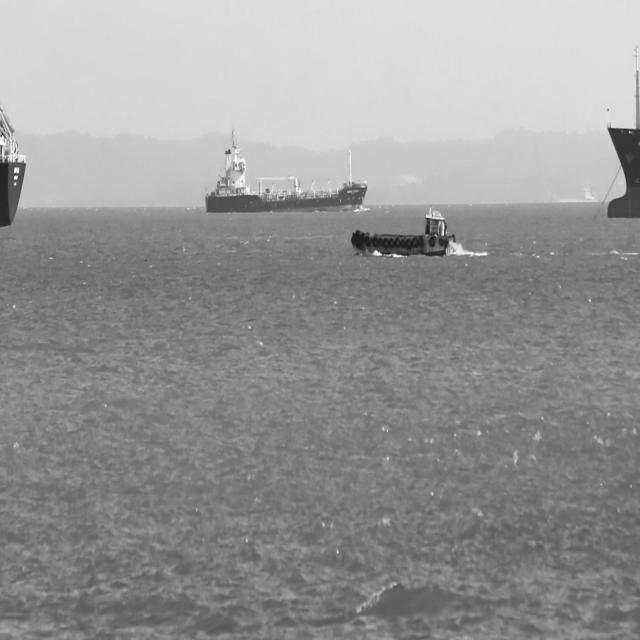ship: (204, 124, 368, 215), (606, 44, 639, 219), (352, 205, 458, 259), (0, 103, 25, 227)
